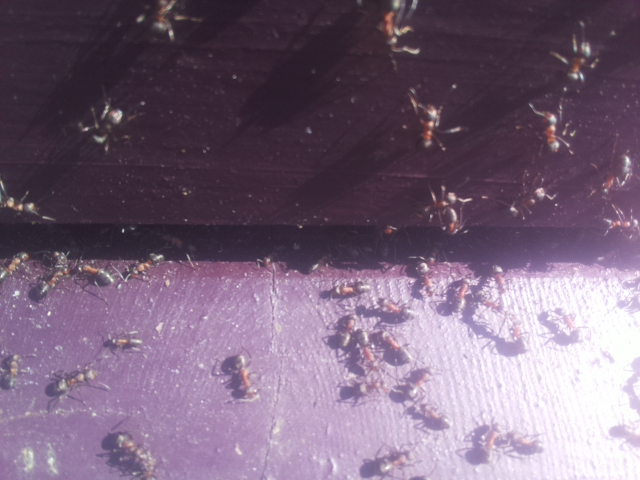ant: (75, 90, 133, 154), (401, 83, 452, 155), (104, 425, 164, 480), (371, 0, 424, 56), (420, 183, 472, 240), (595, 145, 640, 207), (31, 246, 73, 307), (558, 33, 604, 88), (526, 95, 565, 158), (453, 422, 500, 468), (226, 350, 264, 404), (45, 364, 102, 400), (505, 182, 554, 223), (365, 447, 417, 480), (371, 291, 416, 325), (315, 277, 373, 303), (597, 210, 640, 245), (381, 324, 412, 369), (603, 418, 640, 454), (128, 248, 167, 281), (148, 0, 177, 37), (0, 348, 23, 393), (102, 331, 145, 354), (78, 262, 116, 286), (3, 249, 31, 277), (415, 256, 433, 296), (337, 311, 355, 351), (488, 262, 509, 296), (452, 279, 469, 316)
